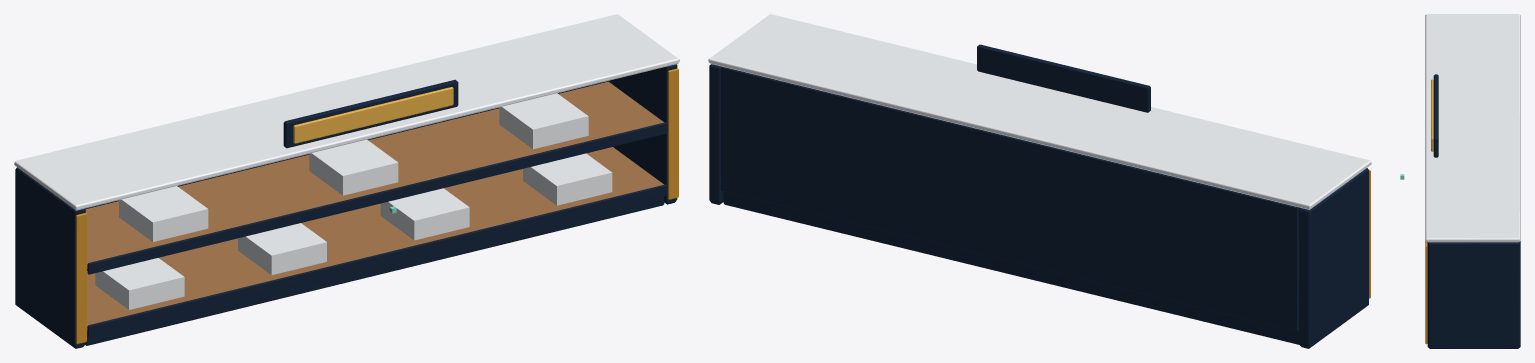
Rendered from CM_Fixture_PremiumShelf_Far.fbx.
The picture shows the model from 3 angles, left to right: view 1: azimuth 30°, elevation 25°; view 2: azimuth 150°, elevation 25°; view 3: azimuth 270°, elevation 25°; orthographic projection. The views are drawn at different scales.
Visible parts, largest first — view 1: Body; view 2: Body; view 3: Body.
Part boxes in pixels (x1,y1,x2,y2): Body: (14, 14, 679, 348); Body: (708, 14, 1371, 348); Body: (1425, 14, 1520, 348).
Size of the model in its own units: 28 by 6.3 by 7.6.
Materials: 1 (1 with a texture image).
